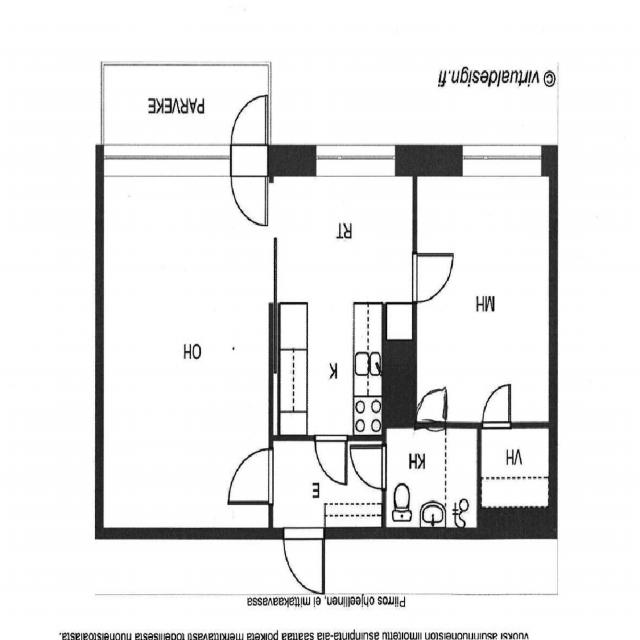door: (283, 527, 324, 594), (232, 98, 266, 176), (232, 146, 266, 223), (229, 449, 272, 503), (412, 253, 451, 300), (350, 446, 386, 488), (315, 435, 346, 483), (416, 383, 445, 428), (482, 383, 510, 428)
